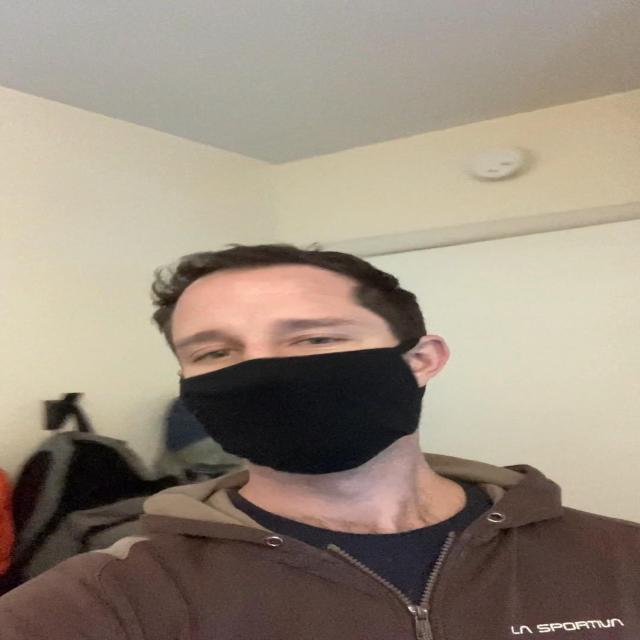no-helmet: (159, 264, 440, 491)
